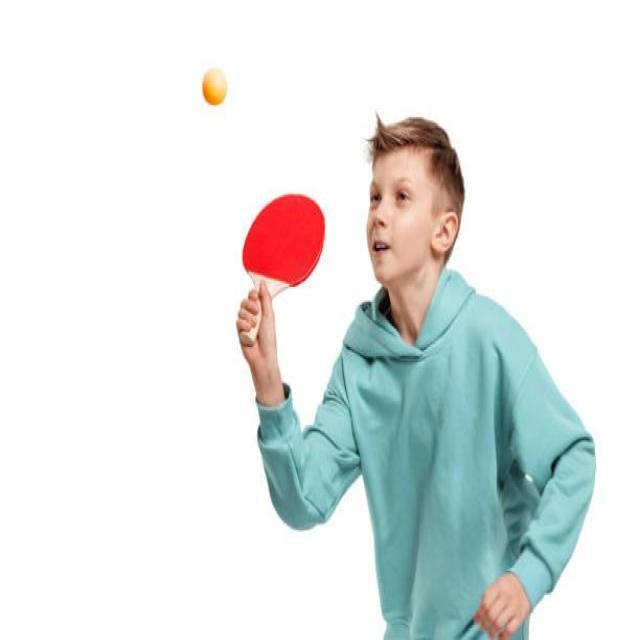oball: (202, 66, 226, 102)
